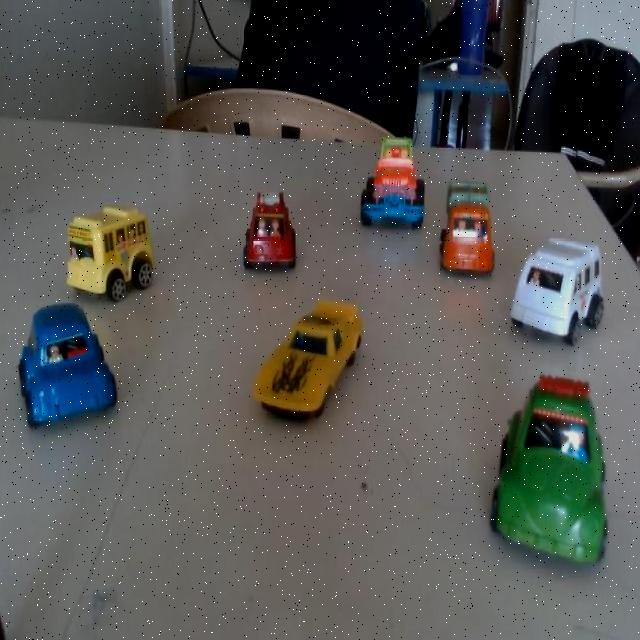car: (479, 373, 639, 566), (505, 219, 619, 360), (253, 302, 380, 418), (12, 298, 117, 432), (76, 205, 164, 306), (346, 127, 426, 229), (436, 168, 502, 282), (241, 186, 308, 282)
